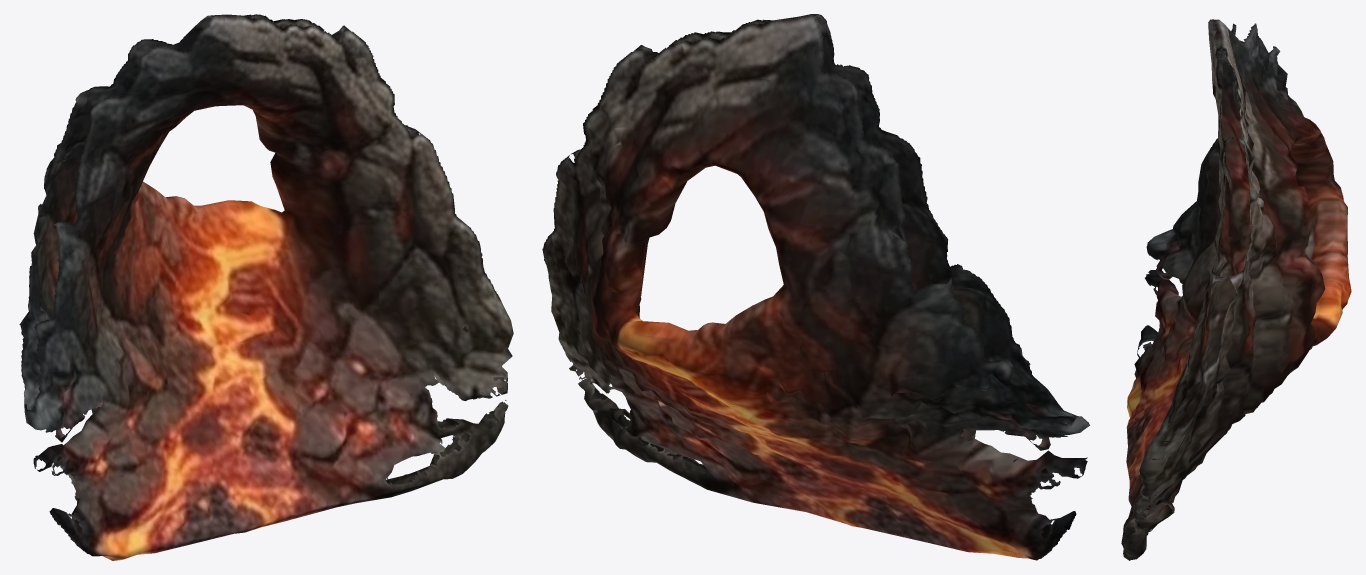
Rendered from lavacave.glb.
The picture shows the model from 3 angles, left to right: view 1: azimuth 30°, elevation 25°; view 2: azimuth 150°, elevation 25°; view 3: azimuth 270°, elevation 25°; orthographic projection. The views are drawn at different scales.
Parts seen in each view (by area): view 1: geometry_0; view 2: geometry_0; view 3: geometry_0.
Boxes of the visible parts, <box> form: geometry_0: <box>19,14,513,560</box>; geometry_0: <box>542,14,1089,560</box>; geometry_0: <box>1121,19,1351,560</box>.
Size of the model in its own units: 1 by 0.9713 by 0.4442.
Materials: 1 (1 with a texture image).
